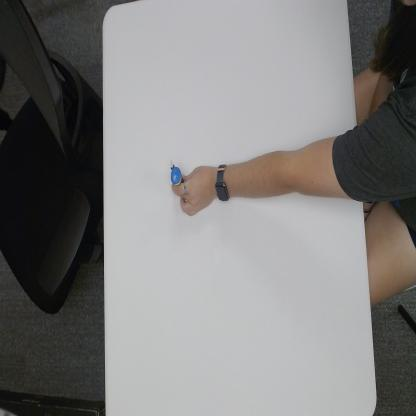Arm: (233, 105, 402, 207)
Hand: (175, 162, 213, 219)
